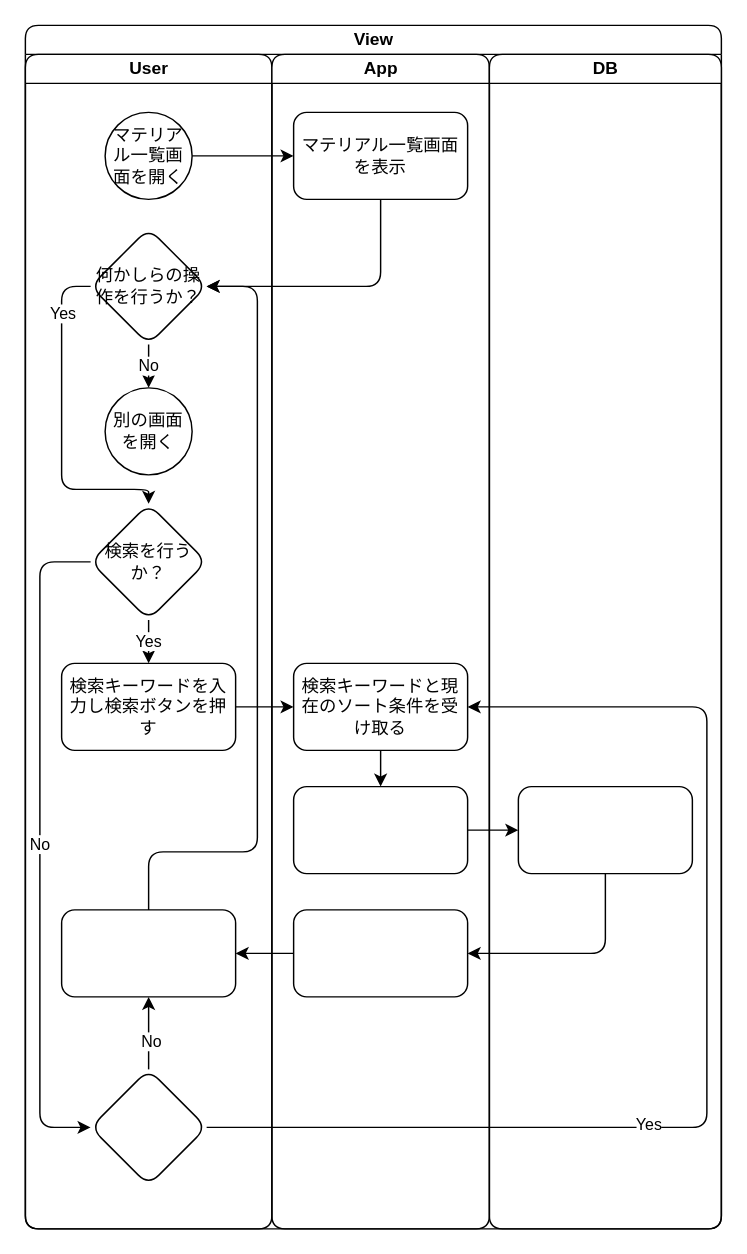
This 747x1254 diagram has some shape labels left out. The shapes that lost their labels are listed below. From the top down, each one's centre as x and y in pixels, then its label:
At (x=380, y=829): "DBへクエリを送信".
At (x=604, y=829): "DBを検索・ソートを実行し結果を返す".
At (x=148, y=952): "結果を閲覧する".
At (x=380, y=952): "結果を一覧表示".
At (x=148, y=1126): "ソートを行うか？".
